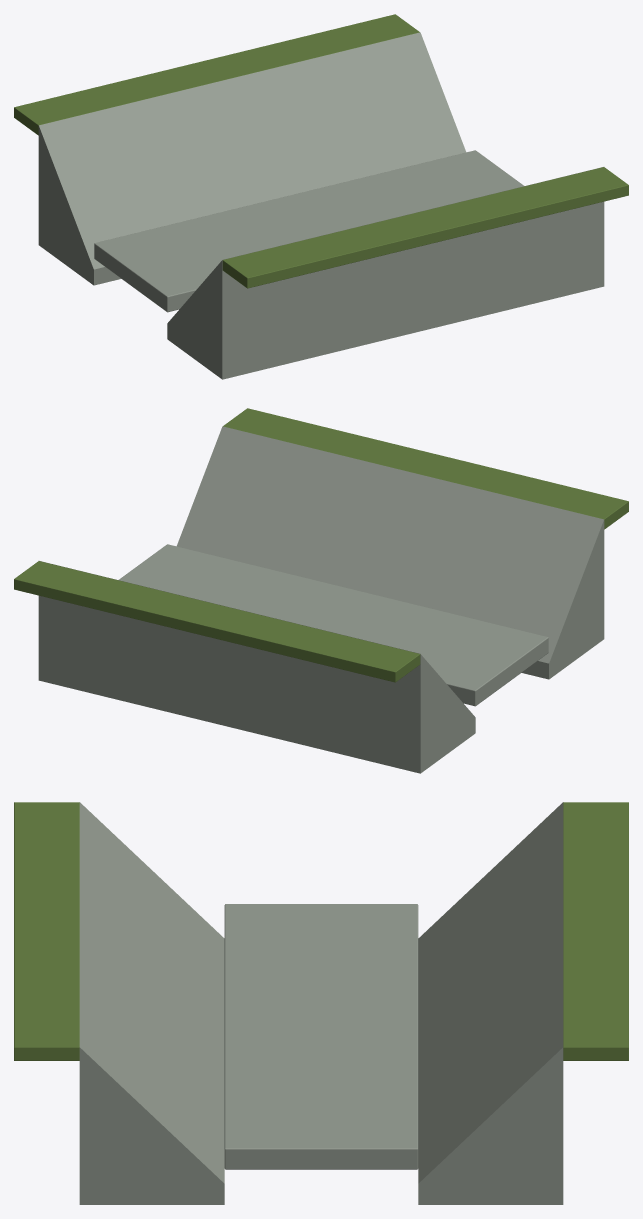
File: source-edit.glb
3 renders of one model, top to bottom at view 1: azimuth 30°, elevation 25°; view 2: azimuth 150°, elevation 25°; view 3: azimuth 270°, elevation 25°, orthographic. The views are drawn at different scales.
Parts seen in each view (by area): view 1: CANAL_Slope.001, CANAL_Slope, CANAL_Bed, CANAL_Verge.001, CANAL_Verge; view 2: CANAL_Slope, CANAL_Slope.001, CANAL_Bed, CANAL_Verge, CANAL_Verge.001; view 3: CANAL_Bed, CANAL_Slope, CANAL_Slope.001, CANAL_Verge, CANAL_Verge.001.
Boxes of the visible parts, x1,y1,x2,y2 form: CANAL_Slope.001: (38,32,465,285); CANAL_Slope: (167,167,604,379); CANAL_Bed: (94,150,524,312); CANAL_Verge.001: (222,167,628,288); CANAL_Verge: (14,14,419,135); CANAL_Slope: (177,426,604,679); CANAL_Slope.001: (38,561,475,773); CANAL_Bed: (118,544,548,706); CANAL_Verge: (14,561,420,682); CANAL_Verge.001: (223,408,628,529); CANAL_Bed: (224,904,418,1169); CANAL_Slope: (79,802,224,1204); CANAL_Slope.001: (418,802,563,1204); CANAL_Verge: (563,802,628,1060); CANAL_Verge.001: (14,802,79,1060).
Size of the model in its own units: 3 by 0.9 by 3.18.
